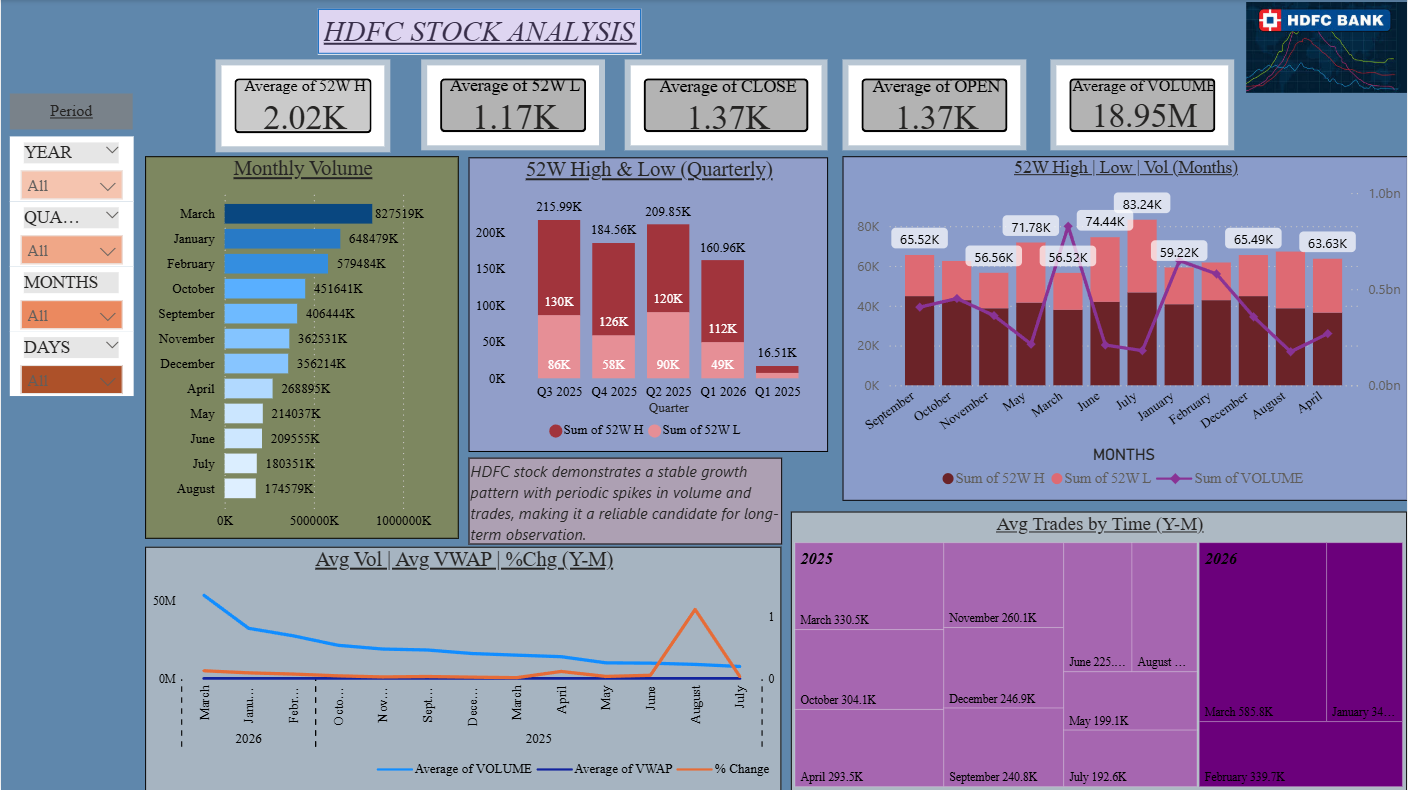

The page's visual inventory and layout, read from the dashboard file:
{"tool":"powerbi","page":{"name":"Page 1","canvas":[1280,720],"ordinal":0},"visuals":[{"type":"textbox","box":[288.5,8.1,294.6,41.5],"z":0},{"type":"image","box":[1132.8,0,146.8,86],"z":1000},{"type":"shape","box":[288.3,8,294.3,41],"z":2000},{"type":"cardVisual","fields":{"Data":["Avg(Quote-Equity-HDFCBANK-EQ-23-03-.52W H)"]},"box":[195.2,54.1,159.2,84.1],"z":3000},{"type":"slicer","fields":{"Values":["Quote-Equity-HDFCBANK-EQ-23-03-.DAYS"]},"box":[8.1,301.4,112.4,59],"z":3000,"group":"g1"},{"type":"cardVisual","fields":{"Data":["Avg(Quote-Equity-HDFCBANK-EQ-23-03-.52W L)"]},"box":[382.4,54.1,167.2,83.1],"z":4000},{"type":"slicer","fields":{"Values":["Quote-Equity-HDFCBANK-EQ-23-03-.MONTHS"]},"box":[8.1,242.4,112.4,59],"z":4000,"group":"g1"},{"type":"cardVisual","fields":{"Data":["Avg(Quote-Equity-HDFCBANK-EQ-23-03-.CLOSE)"]},"box":[567.6,54.1,184.2,83.1],"z":5000},{"type":"slicer","fields":{"Values":["Quote-Equity-HDFCBANK-EQ-23-03-.YEAR"]},"box":[8.1,124.5,112.4,59],"z":5000,"group":"g1"},{"type":"cardVisual","fields":{"Data":["Avg(Quote-Equity-HDFCBANK-EQ-23-03-.OPEN)"]},"box":[765.8,54.1,167.2,83.1],"z":6000},{"type":"slicer","fields":{"Values":["Quote-Equity-HDFCBANK-EQ-23-03-.Quarter "]},"box":[8.1,183.5,112.4,59],"z":6000,"group":"g1"},{"type":"cardVisual","fields":{"Data":["Avg(Quote-Equity-HDFCBANK-EQ-23-03-.VOLUME)"]},"box":[955,54.1,167.2,83.1],"z":7000},{"type":"columnChart","title":"52W High & Low (Quarterly)","fields":{"Y":["Sum(Quote-Equity-HDFCBANK-EQ-23-03-.52W H)","Sum(Quote-Equity-HDFCBANK-EQ-23-03-.52W L)"],"Category":["Quote-Equity-HDFCBANK-EQ-23-03-.Quarter "]},"box":[425.2,142.7,327,268.3],"z":8000},{"type":"lineStackedColumnComboChart","title":"52W High | Low | Vol (Months)","fields":{"Y":["Sum(Quote-Equity-HDFCBANK-EQ-23-03-.52W H)","Sum(Quote-Equity-HDFCBANK-EQ-23-03-.52W L)"],"Category":["Quote-Equity-HDFCBANK-EQ-23-03-.MONTHS"],"Y2":["Sum(Quote-Equity-HDFCBANK-EQ-23-03-.VOLUME)"]},"box":[765.3,141.7,514.3,313.8],"z":9000},{"type":"clusteredBarChart","title":"Monthly Volume","fields":{"Y":["Sum(Quote-Equity-HDFCBANK-EQ-23-03-.VOLUME)"],"Category":["Quote-Equity-HDFCBANK-EQ-23-03-.MONTHS"]},"box":[131.6,141.7,285.5,348.2],"z":10000},{"type":"treemap","title":"Avg Trades by Time (Y-M)","fields":{"Group":["Quote-Equity-HDFCBANK-EQ-23-03-.YEAR"],"Details":["Quote-Equity-HDFCBANK-EQ-23-03-.MONTHS"],"Values":["Avg(Quote-Equity-HDFCBANK-EQ-23-03-.NO. OF  TRADES)"]},"box":[718.8,465.7,560.8,254.1],"z":11000},{"type":"textbox","box":[425.2,416.1,285.5,79],"z":12000},{"type":"lineChart","title":"Avg Vol | Avg VWAP | %Chg (Y-M)","fields":{"Category":["Quote-Equity-HDFCBANK-EQ-23-03-.YEAR","Quote-Equity-HDFCBANK-EQ-23-03-.MONTHS"],"Y":["Avg(Quote-Equity-HDFCBANK-EQ-23-03-.VOLUME)","Avg(Quote-Equity-HDFCBANK-EQ-23-03-.VWAP)"],"Y2":["Quote-Equity-HDFCBANK-EQ-23-03-.% Change"]},"box":[131.6,497.1,579.1,222.7],"z":13000},{"type":"group","id":"g1","title":"Group 1","box":[8.1,124.5,112.4,235.9],"z":14000},{"type":"group","id":"g2","title":"Group 2","box":[8,85.1,112.1,33],"z":15000},{"type":"textbox","box":[8,85.1,112.1,33],"z":16008,"group":"g2"}]}

Visuals, with their boxes in screenshot pixels (x1, y1, x2, y2), scaled from the page's 1280x720 canvas onto the 1408x790 screenshot:
textbox: (317, 9, 641, 54)
image: (1246, 0, 1407, 94)
shape: (317, 9, 641, 54)
cardVisual - Avg(Quote-Equity-HDFCBANK-EQ-23-03-.52W H): (215, 59, 390, 152)
slicer - Quote-Equity-HDFCBANK-EQ-23-03-.DAYS: (9, 331, 133, 395)
cardVisual - Avg(Quote-Equity-HDFCBANK-EQ-23-03-.52W L): (421, 59, 605, 151)
slicer - Quote-Equity-HDFCBANK-EQ-23-03-.MONTHS: (9, 266, 133, 331)
cardVisual - Avg(Quote-Equity-HDFCBANK-EQ-23-03-.CLOSE): (624, 59, 827, 151)
slicer - Quote-Equity-HDFCBANK-EQ-23-03-.YEAR: (9, 137, 133, 201)
cardVisual - Avg(Quote-Equity-HDFCBANK-EQ-23-03-.OPEN): (842, 59, 1026, 151)
slicer - Quote-Equity-HDFCBANK-EQ-23-03-.Quarter : (9, 201, 133, 266)
cardVisual - Avg(Quote-Equity-HDFCBANK-EQ-23-03-.VOLUME): (1050, 59, 1234, 151)
"52W High & Low (Quarterly)" columnChart: (468, 157, 827, 451)
"52W High | Low | Vol (Months)" lineStackedColumnComboChart: (842, 155, 1407, 500)
"Monthly Volume" clusteredBarChart: (145, 155, 459, 538)
"Avg Trades by Time (Y-M)" treemap: (791, 511, 1407, 789)
textbox: (468, 457, 782, 543)
"Avg Vol | Avg VWAP | %Chg (Y-M)" lineChart: (145, 545, 782, 789)
"Group 1" group: (9, 137, 133, 395)
"Group 2" group: (9, 93, 132, 130)
textbox: (9, 93, 132, 130)
